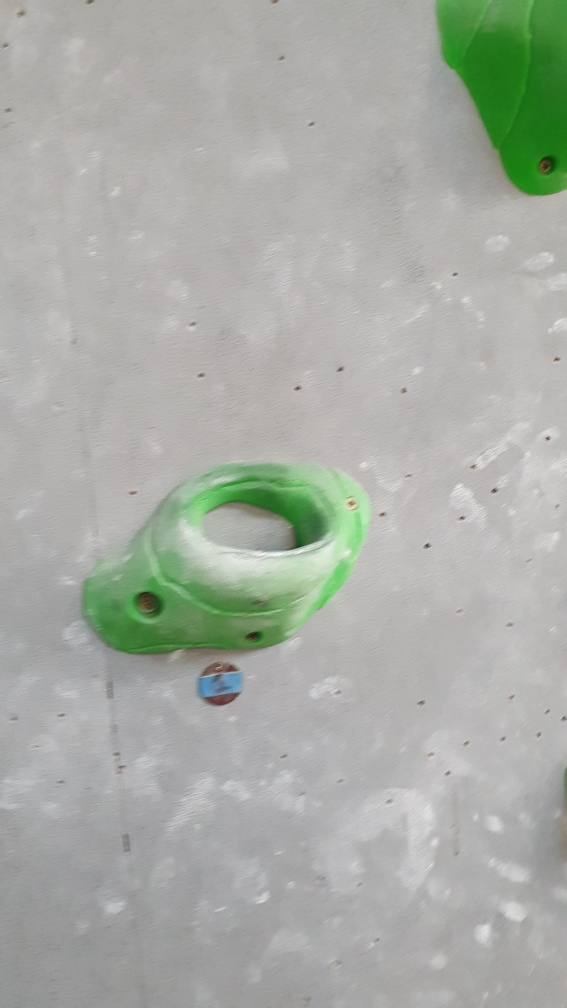Hand Start: (194, 659, 244, 711)
Pocket: (79, 454, 373, 663)
